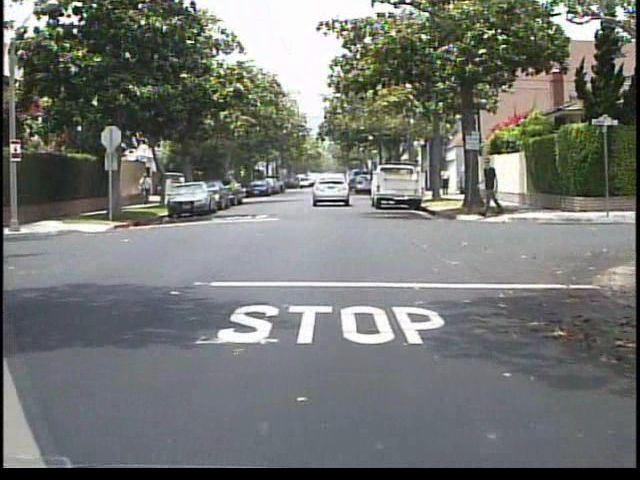person: (475, 155, 505, 219), (137, 173, 157, 207), (437, 162, 452, 200), (174, 173, 191, 204)
